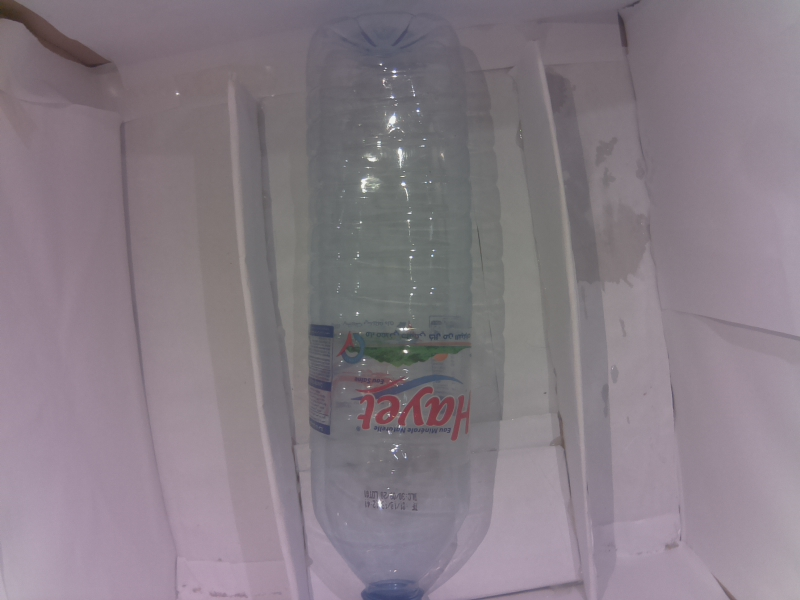botolplastik: (309, 16, 463, 600)
